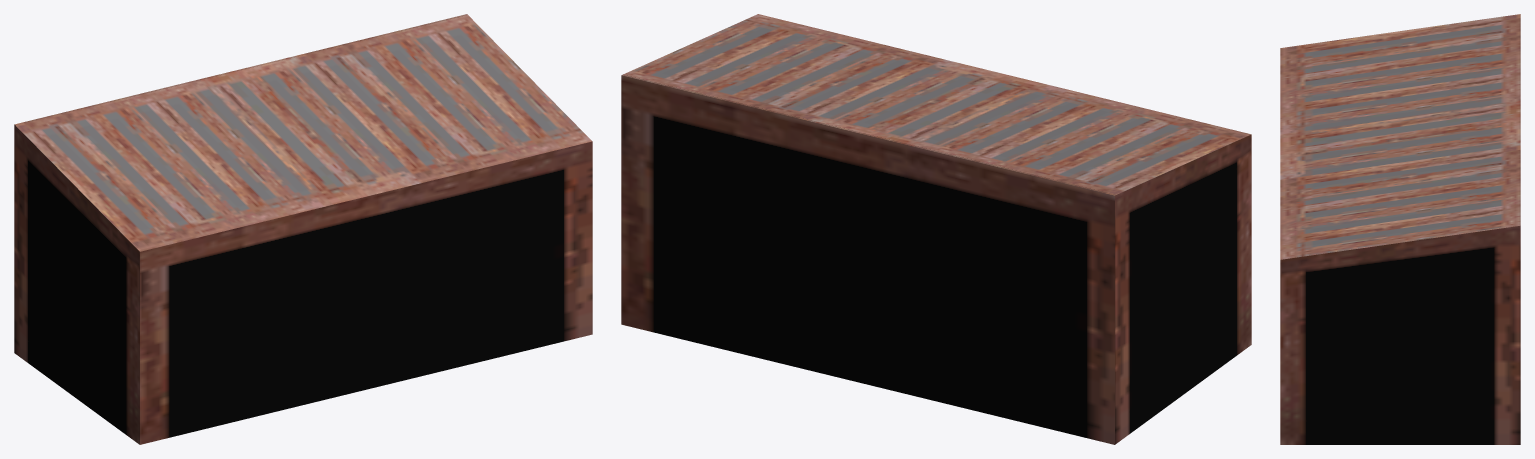
Rendered from Environment - Prop - Shed - PMShed.glb.
3 renders of one model, left to right at view 1: azimuth 30°, elevation 25°; view 2: azimuth 150°, elevation 25°; view 3: azimuth 270°, elevation 25°, orthographic. The views are drawn at different scales.
Visible parts, largest first — view 1: PMSHED; view 2: PMSHED; view 3: PMSHED.
Boxes of the visible parts, x1,y1,x2,y2 form: PMSHED: [14, 14, 592, 444]; PMSHED: [621, 14, 1251, 444]; PMSHED: [1280, 14, 1520, 444].
Bounding box in the file's own units: 25 × 12.07 × 12.
Materials: 1 (1 with a texture image).
